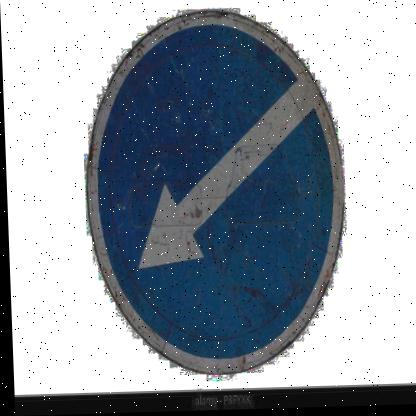Keep left: (76, 8, 348, 384)
